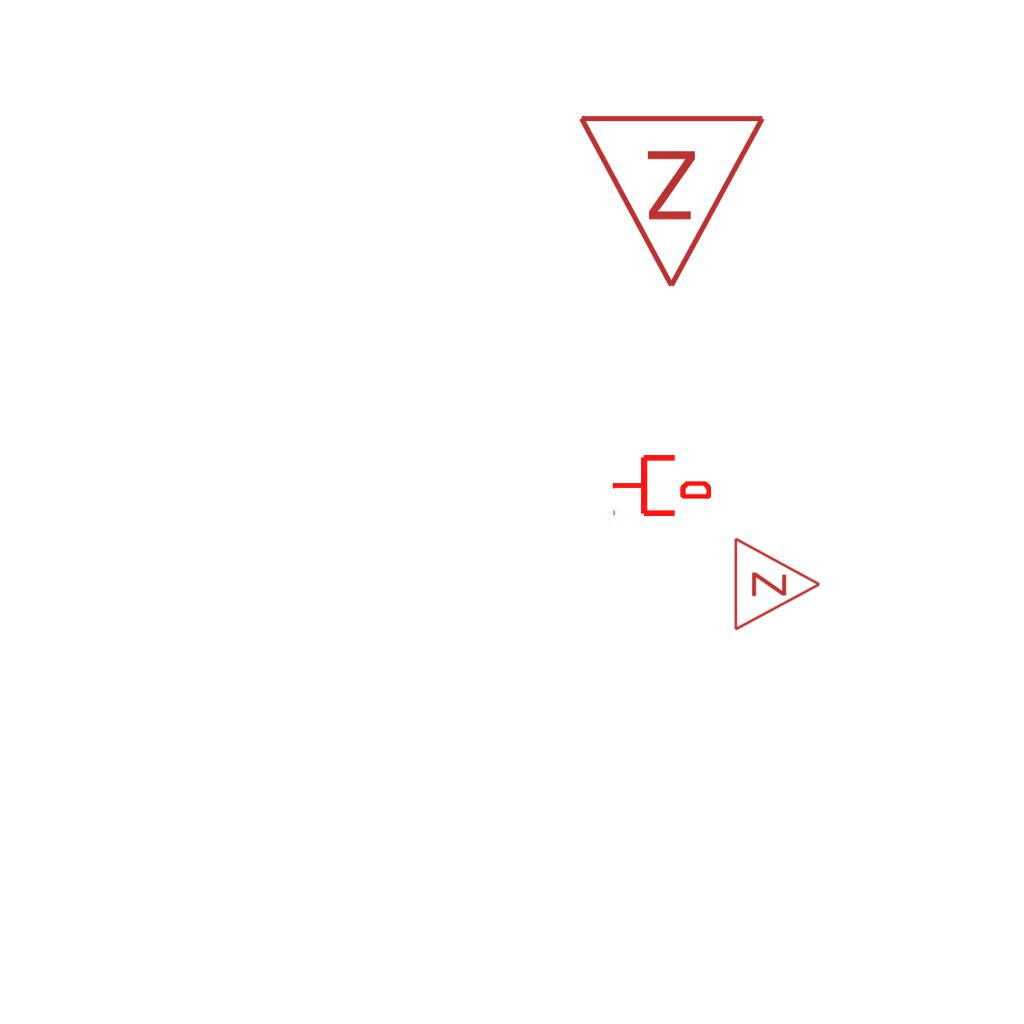Datenanschluss_einfach: (611, 451, 711, 520)
Zimmersignalleuchte: (576, 101, 772, 301), (727, 534, 827, 632)
